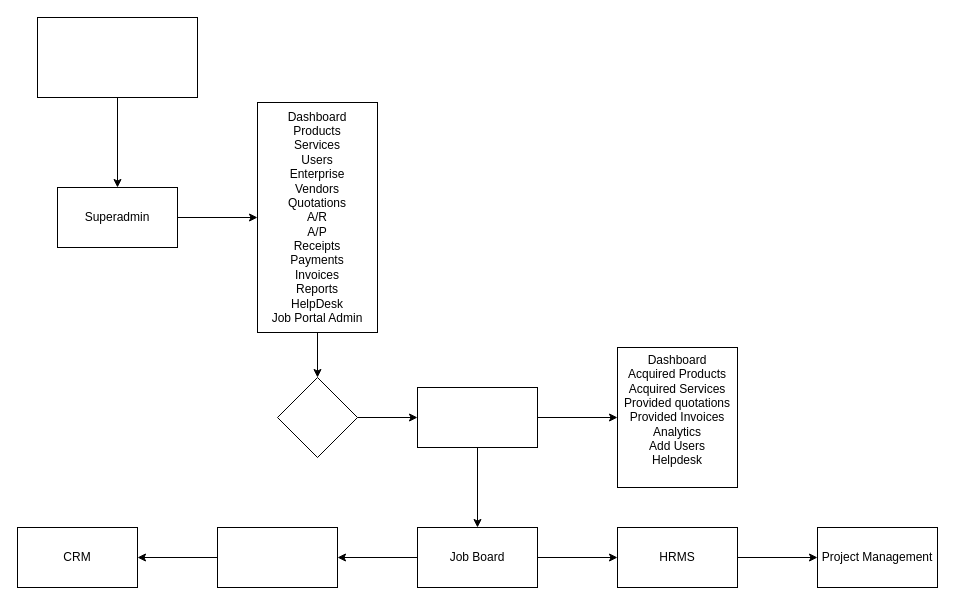
Some shapes in this 955 by 605 pixel diagram are drawn without their labels. Here are the shapes that lost their labels. From the top down, the centre of each, then its label:
the point at 117,57: MOAQA
the point at 317,417: Login
the point at 477,417: Enterprise
the point at 277,557: Job Portal
